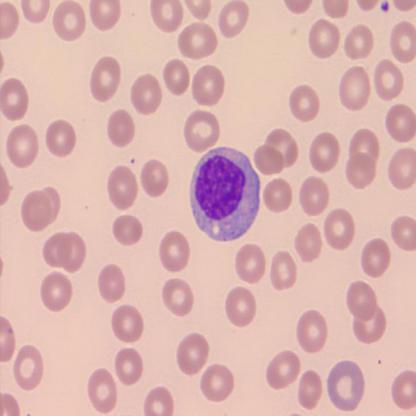Metamyelocyte: (187, 144, 265, 245)
